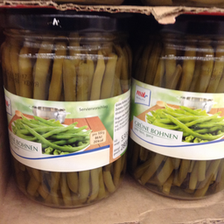beans: (3, 12, 131, 210), (136, 12, 224, 199)
